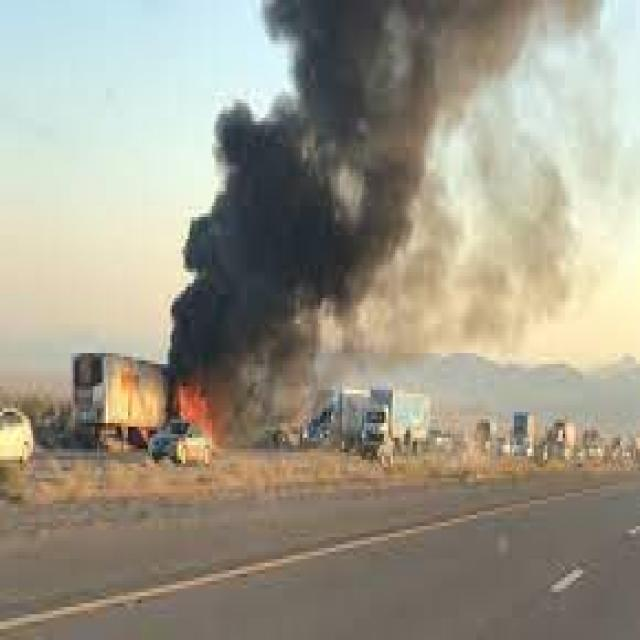fire: (168, 376, 218, 452)
smoke: (161, 4, 640, 375)
